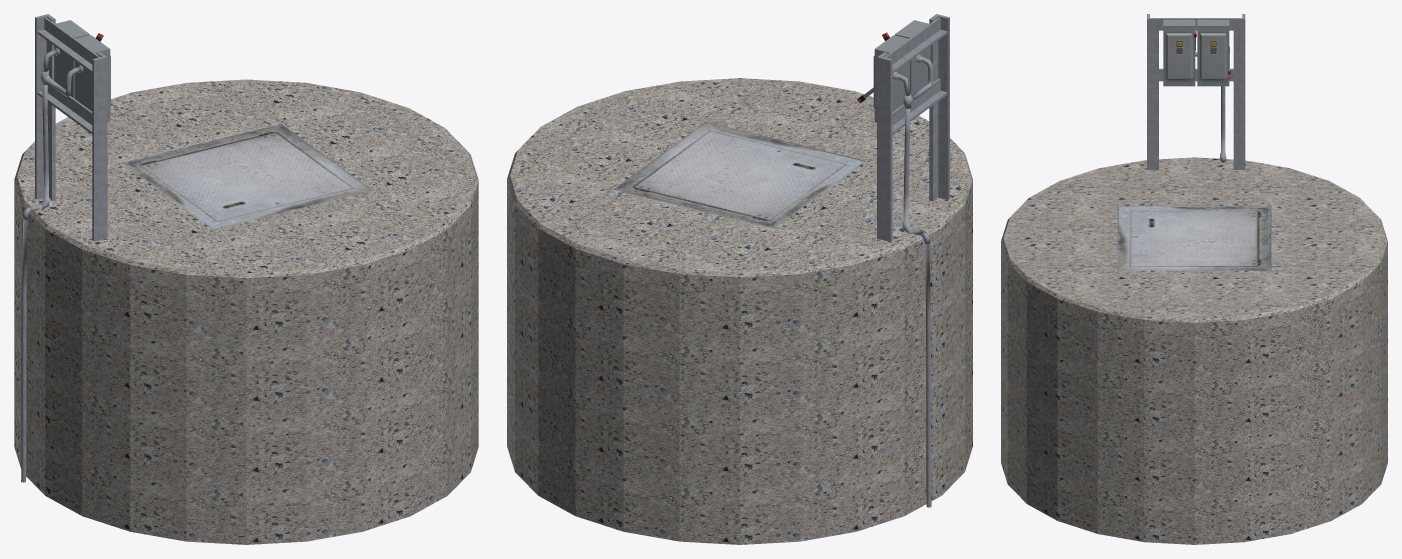
Rendered from Classic64_PumpStation_Model.fbx.
3 renders of one model, left to right at view 1: azimuth 30°, elevation 25°; view 2: azimuth 150°, elevation 25°; view 3: azimuth 270°, elevation 25°, orthographic. The views are drawn at different scales.
Visible parts, largest first — view 1: Classic64_PumpStation_Part04, Classic64_PumpStation_Part05, Classic64_PumpStation_Part06, Classic64_PumpStation_Part01, Classic64_PumpStation_Part00; view 2: Classic64_PumpStation_Part04, Classic64_PumpStation_Part05, Classic64_PumpStation_Part06, Classic64_PumpStation_Part00, Classic64_PumpStation_Part01; view 3: Classic64_PumpStation_Part04, Classic64_PumpStation_Part05, Classic64_PumpStation_Part00, Classic64_PumpStation_Part01.
Boxes of the visible parts, x1,y1,x2,y2 form: Classic64_PumpStation_Part04: (14,79,478,544); Classic64_PumpStation_Part05: (35,14,107,241); Classic64_PumpStation_Part06: (21,48,83,482); Classic64_PumpStation_Part01: (74,35,110,121); Classic64_PumpStation_Part00: (54,20,89,98); Classic64_PumpStation_Part04: (507,78,972,544); Classic64_PumpStation_Part05: (877,14,949,241); Classic64_PumpStation_Part06: (892,54,933,507); Classic64_PumpStation_Part00: (873,35,909,121); Classic64_PumpStation_Part01: (895,20,930,95); Classic64_PumpStation_Part04: (1001,157,1387,544); Classic64_PumpStation_Part05: (1147,14,1245,169); Classic64_PumpStation_Part00: (1197,19,1229,86); Classic64_PumpStation_Part01: (1163,19,1195,86).
Size of the model in its own units: 2.03 by 2.14 by 2.
Materials: 4 (4 with a texture image).
